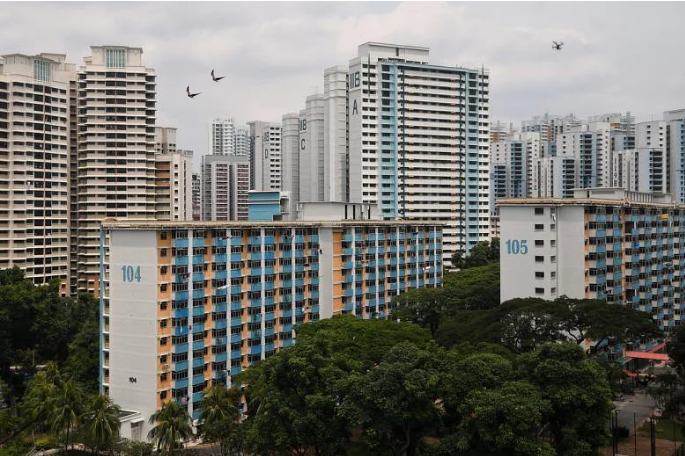drone_other: (552, 40, 565, 51)
